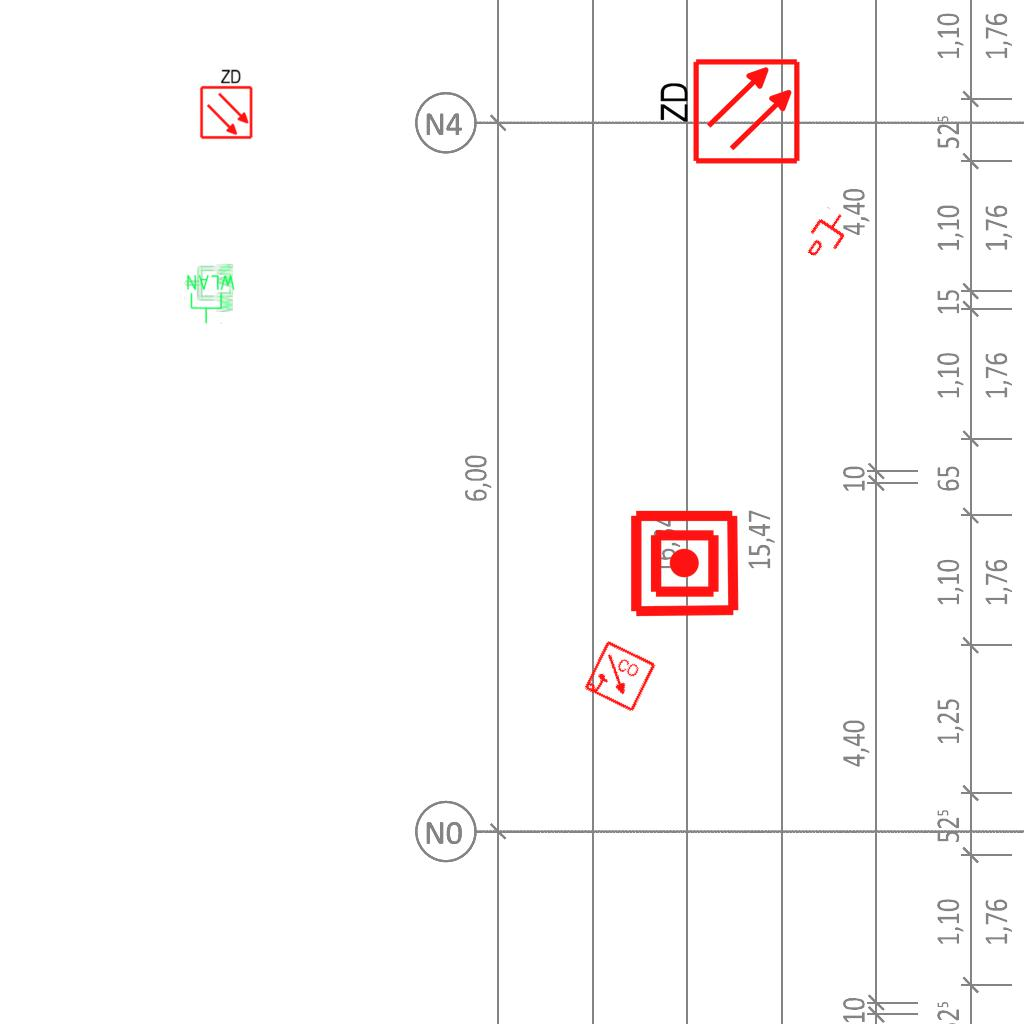Datenanschluss_einfach: (798, 204, 856, 266)
NAM-Nichtautomatischer_Melder: (628, 507, 741, 620)
ROA_Rauchmelder_optisch_mit_Signalgeber_(Sockelsirene): (582, 639, 658, 715)
WLAN: (183, 262, 235, 314), (185, 273, 237, 325)
ZD_Melder_in_Zwischendecke_mit_Revisionsoeffnung_mind_40_x_40_cm: (653, 56, 802, 170), (197, 66, 254, 140)
